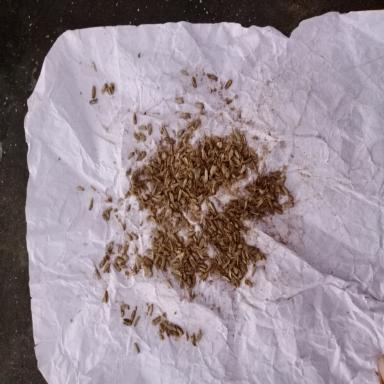pbw: (180, 148, 194, 157), (206, 256, 217, 267), (166, 232, 178, 242), (93, 265, 101, 279), (267, 197, 275, 211), (160, 124, 168, 138), (174, 324, 184, 335), (121, 242, 130, 254), (138, 197, 147, 209), (151, 180, 158, 195), (180, 66, 190, 76), (143, 256, 153, 266), (152, 315, 162, 325), (154, 152, 162, 164), (160, 254, 166, 270), (206, 73, 218, 81), (188, 202, 200, 210), (189, 255, 196, 268), (140, 186, 147, 199), (137, 151, 146, 161), (160, 205, 168, 216), (269, 170, 280, 178), (124, 166, 132, 177), (208, 202, 216, 213), (178, 251, 186, 262), (210, 166, 218, 177), (226, 149, 234, 160), (181, 215, 189, 226), (195, 167, 201, 181), (204, 234, 210, 248), (240, 262, 247, 274), (196, 230, 202, 244), (88, 197, 94, 211), (102, 290, 108, 304), (133, 342, 140, 354), (212, 244, 220, 254), (158, 224, 166, 234), (172, 269, 182, 277), (260, 205, 270, 213), (185, 238, 193, 248), (274, 207, 284, 215), (282, 185, 290, 195), (256, 198, 264, 208), (103, 206, 113, 214), (138, 132, 146, 142), (178, 170, 188, 178), (116, 256, 126, 264), (113, 262, 121, 272), (204, 194, 210, 207), (251, 161, 258, 172), (183, 132, 190, 143), (197, 193, 204, 204), (201, 271, 208, 282), (196, 156, 204, 165), (222, 259, 230, 268), (123, 318, 132, 326), (181, 189, 190, 197), (182, 176, 188, 188), (251, 265, 257, 277), (130, 310, 136, 322), (233, 249, 242, 257), (232, 155, 240, 164), (186, 274, 192, 286), (144, 169, 150, 181), (284, 201, 294, 208), (174, 275, 184, 282), (107, 242, 114, 252), (194, 102, 204, 109), (260, 178, 267, 188), (225, 79, 232, 89), (250, 209, 260, 216), (234, 130, 241, 140), (279, 176, 286, 186), (190, 336, 197, 346), (229, 132, 234, 146), (101, 83, 107, 94), (176, 137, 182, 148), (211, 181, 216, 194), (202, 217, 207, 230), (136, 258, 141, 271), (199, 236, 204, 249), (244, 279, 252, 287), (122, 302, 130, 310), (153, 175, 161, 183), (180, 260, 188, 268), (220, 243, 228, 251), (237, 172, 245, 180), (189, 244, 197, 252), (241, 211, 249, 219), (155, 215, 164, 222), (166, 279, 173, 288), (89, 98, 98, 105), (156, 195, 165, 202), (175, 97, 184, 104), (196, 187, 203, 196), (226, 207, 235, 214), (134, 148, 141, 157), (251, 248, 260, 255), (200, 248, 210, 254), (100, 258, 106, 268), (148, 206, 154, 216), (241, 135, 247, 145), (234, 149, 240, 159), (232, 220, 238, 230), (134, 316, 140, 326), (110, 82, 115, 94), (211, 271, 221, 277), (172, 227, 182, 233), (204, 168, 208, 183), (177, 189, 182, 201), (225, 168, 230, 180), (198, 251, 204, 261), (186, 197, 196, 203), (210, 221, 216, 231), (212, 218, 218, 228), (249, 254, 255, 264), (164, 327, 170, 337), (164, 220, 170, 230), (244, 144, 248, 158), (222, 275, 230, 282), (273, 201, 281, 208), (121, 254, 129, 261), (186, 225, 194, 232), (230, 260, 237, 268), (207, 156, 214, 164), (127, 152, 134, 160), (238, 228, 246, 235), (131, 232, 138, 240), (101, 214, 109, 221), (186, 122, 195, 128), (224, 143, 230, 152), (207, 140, 213, 149), (126, 232, 132, 241), (240, 164, 246, 173), (174, 217, 180, 226), (169, 330, 178, 336), (166, 155, 170, 168), (92, 85, 96, 98), (220, 153, 225, 163), (213, 155, 218, 165), (170, 183, 180, 188), (214, 146, 219, 156), (246, 186, 256, 191), (148, 164, 153, 174), (169, 191, 174, 201), (174, 153, 179, 163), (247, 246, 252, 256), (255, 175, 260, 185), (196, 329, 201, 339), (137, 255, 144, 262), (288, 193, 294, 201), (198, 266, 206, 272), (244, 246, 248, 258), (187, 232, 195, 238), (244, 157, 252, 163), (207, 226, 213, 234), (248, 203, 254, 211), (192, 76, 196, 88), (230, 212, 238, 218), (173, 211, 181, 217), (170, 258, 178, 264), (177, 130, 185, 136), (188, 178, 192, 190), (198, 334, 204, 342), (170, 324, 176, 332), (148, 216, 156, 222), (148, 123, 152, 135), (171, 162, 175, 174), (172, 201, 178, 209), (170, 203, 176, 211), (196, 181, 204, 187), (192, 274, 196, 286), (229, 200, 237, 206), (181, 158, 187, 166), (206, 264, 212, 272), (130, 263, 136, 271), (222, 213, 228, 221), (169, 240, 173, 252), (106, 86, 111, 95), (265, 194, 274, 199), (75, 186, 84, 191), (141, 164, 146, 173), (194, 271, 203, 276), (222, 163, 226, 174), (170, 144, 174, 155), (184, 330, 188, 341), (132, 113, 136, 124), (120, 306, 124, 317), (228, 243, 232, 254), (232, 243, 236, 254), (243, 188, 250, 194), (223, 227, 230, 233), (114, 259, 121, 265), (133, 134, 140, 140), (162, 167, 169, 173), (255, 254, 262, 260), (213, 136, 220, 142), (174, 248, 181, 254), (218, 266, 225, 272), (178, 146, 185, 152), (146, 248, 152, 255), (195, 147, 200, 155), (107, 262, 111, 272), (185, 270, 195, 274), (242, 250, 246, 260), (174, 242, 182, 247), (129, 271, 137, 276), (139, 125, 147, 130), (159, 236, 163, 246), (182, 113, 190, 118), (154, 254, 158, 264), (160, 162, 164, 172), (180, 235, 184, 245), (238, 236, 243, 244), (210, 215, 220, 219), (244, 199, 248, 209), (156, 173, 164, 178), (159, 324, 164, 332), (198, 264, 208, 268), (106, 252, 116, 256), (237, 209, 246, 213), (208, 149, 212, 158), (235, 279, 239, 288), (210, 235, 216, 241), (226, 251, 232, 257), (227, 234, 232, 241), (229, 269, 232, 280), (150, 246, 158, 250), (189, 161, 193, 169), (233, 234, 237, 242), (175, 172, 179, 180), (184, 156, 188, 164), (220, 238, 224, 246), (164, 250, 170, 255), (90, 186, 96, 191), (216, 162, 221, 168), (193, 332, 196, 342), (275, 186, 280, 192), (202, 146, 204, 160), (154, 194, 161, 198), (214, 238, 221, 242), (119, 264, 126, 268), (196, 230, 199, 239), (180, 199, 185, 204), (230, 283, 236, 287), (215, 172, 221, 176), (151, 197, 157, 201), (218, 212, 222, 218), (202, 140, 206, 146), (171, 156, 174, 164), (218, 230, 222, 235), (176, 202, 180, 206), (238, 244, 242, 248), (138, 187, 140, 195), (164, 138, 170, 140)
